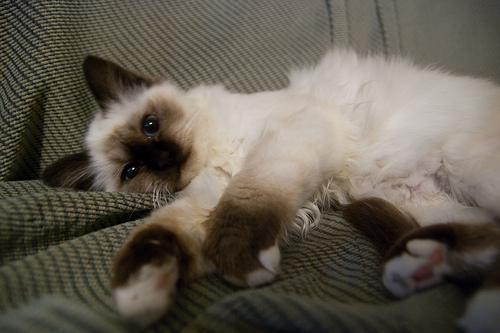cat: (41, 55, 500, 323)
